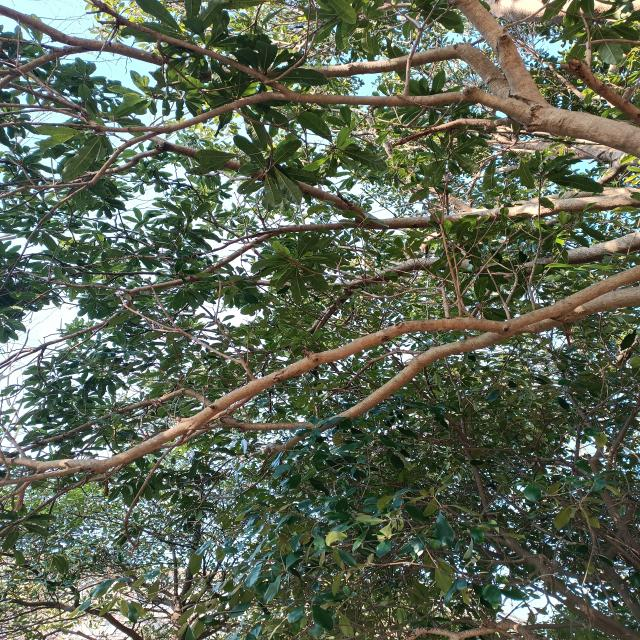Branch: (446, 0, 640, 161), (353, 231, 640, 293), (279, 42, 511, 99), (393, 193, 640, 232), (558, 57, 640, 123)
Twig: (0, 268, 640, 486), (17, 223, 353, 353), (263, 331, 514, 456), (79, 130, 381, 221), (5, 82, 507, 133), (0, 133, 157, 290), (87, 0, 294, 93), (6, 389, 213, 458), (208, 279, 357, 356), (0, 3, 163, 66), (54, 230, 274, 269), (166, 451, 265, 523), (389, 118, 515, 146), (1, 46, 86, 87), (187, 417, 319, 439), (585, 39, 640, 69), (0, 122, 99, 132), (0, 349, 39, 368), (37, 349, 47, 387)
